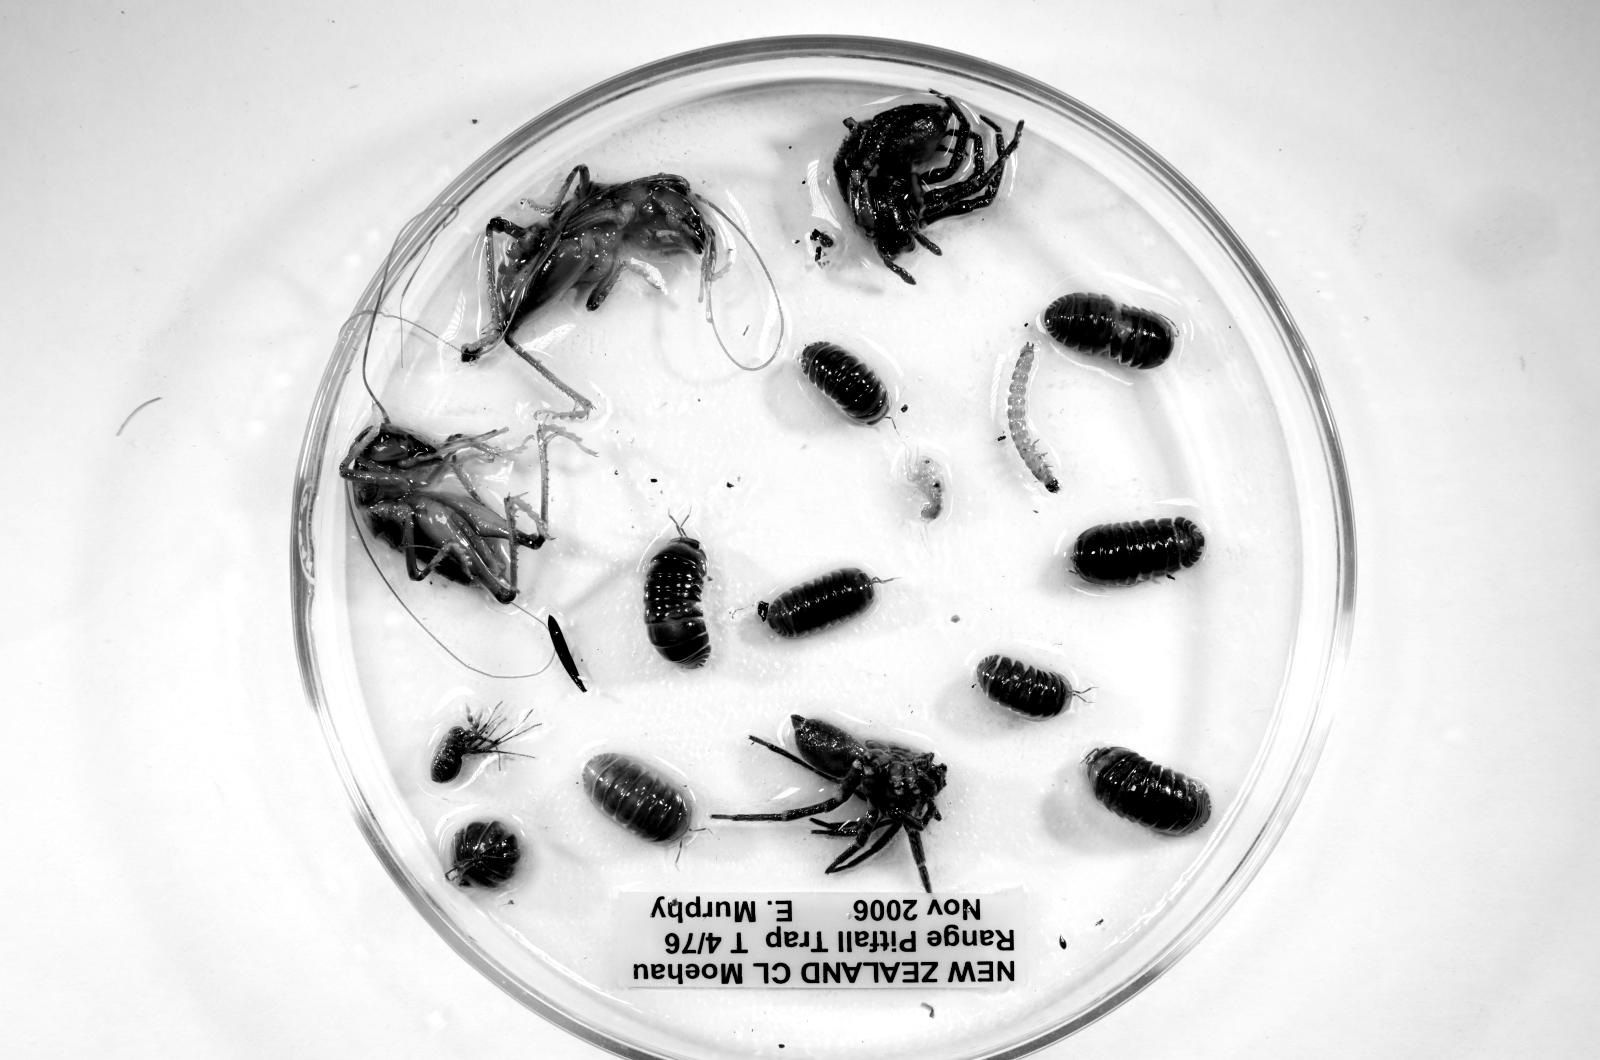amphipoda: (903, 454, 946, 523)
araneae: (712, 713, 947, 892), (834, 95, 1024, 284)
coleoptera_larva: (1008, 342, 1060, 492)
isopoda: (1084, 746, 1211, 836), (1044, 292, 1177, 369), (583, 754, 692, 844), (1069, 517, 1205, 586), (757, 568, 886, 636), (646, 534, 711, 668), (799, 341, 890, 425), (976, 653, 1078, 719), (446, 820, 522, 887)
opiliones: (432, 706, 529, 783)
orthoptera: (461, 164, 717, 418)
